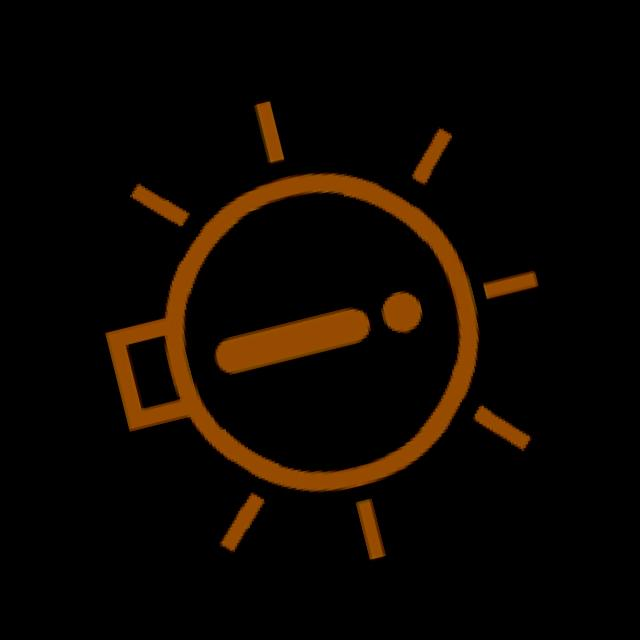kontrolka: (27, 5, 627, 638)
